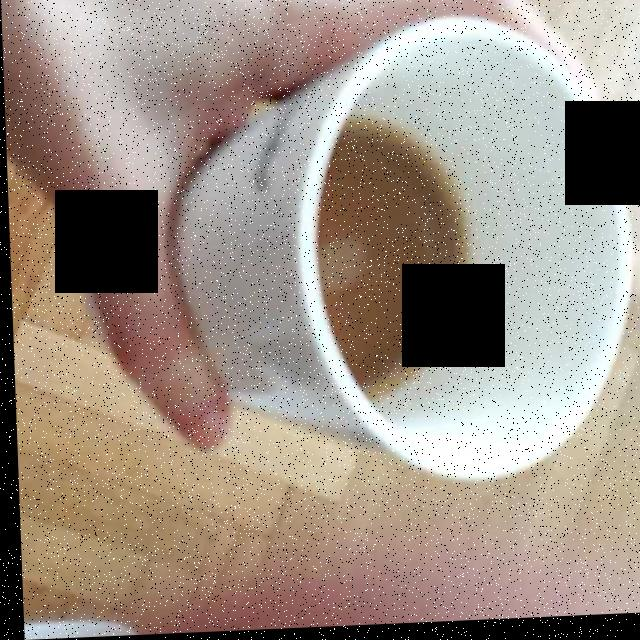espresso-with-caffeine: (316, 117, 458, 399)
